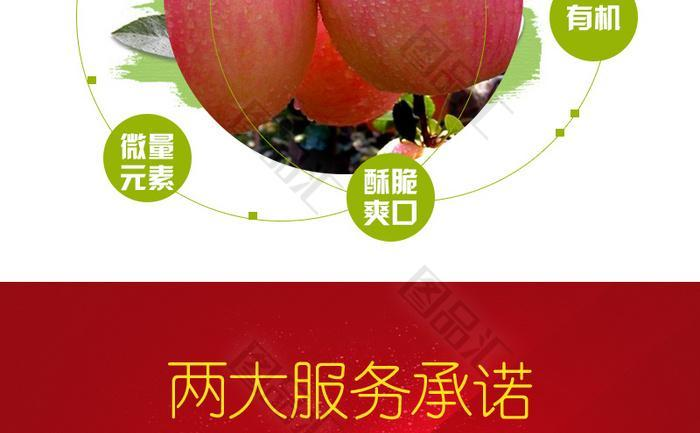apple: (164, 1, 318, 135), (320, 2, 519, 96)
